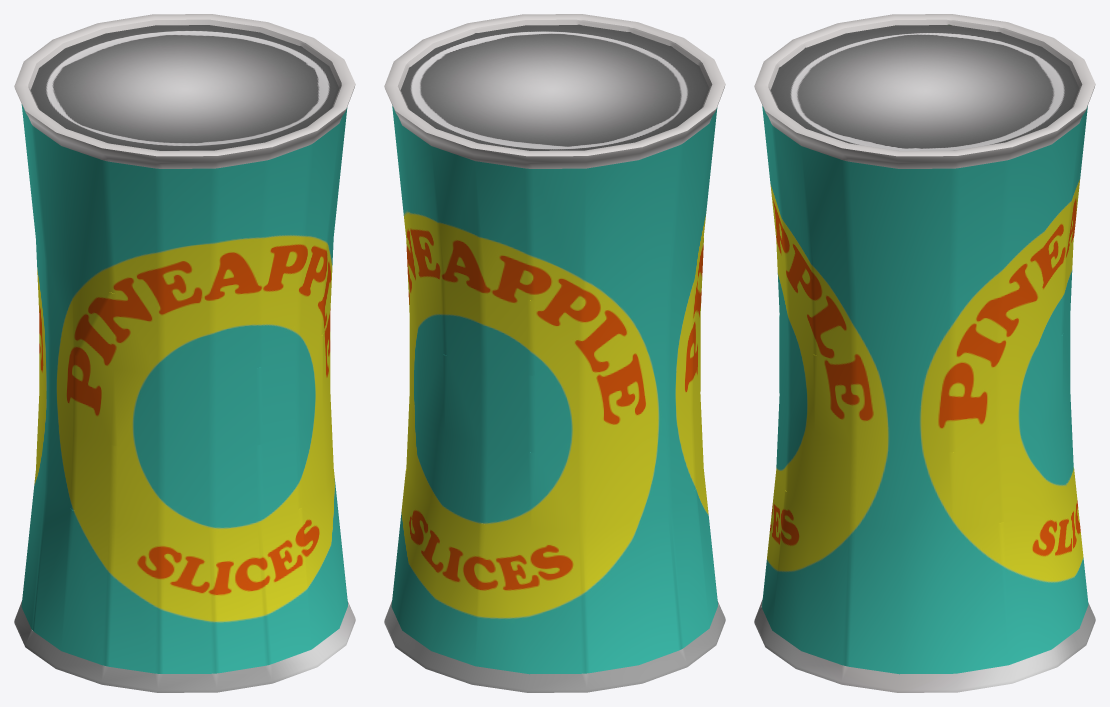
File: food can - pineapple.fbx
The picture shows the model from 3 angles, left to right: view 1: azimuth 30°, elevation 25°; view 2: azimuth 150°, elevation 25°; view 3: azimuth 270°, elevation 25°; orthographic projection.
Visible parts, largest first — view 1: food can pineapple slices; view 2: food can pineapple slices; view 3: food can pineapple slices.
Boxes of the visible parts, x1,y1,x2,y2 form: food can pineapple slices: (14, 14, 355, 692); food can pineapple slices: (384, 14, 725, 692); food can pineapple slices: (754, 14, 1095, 692).
Bounding box in the file's own units: 14.82 × 26.1 × 15.01.
